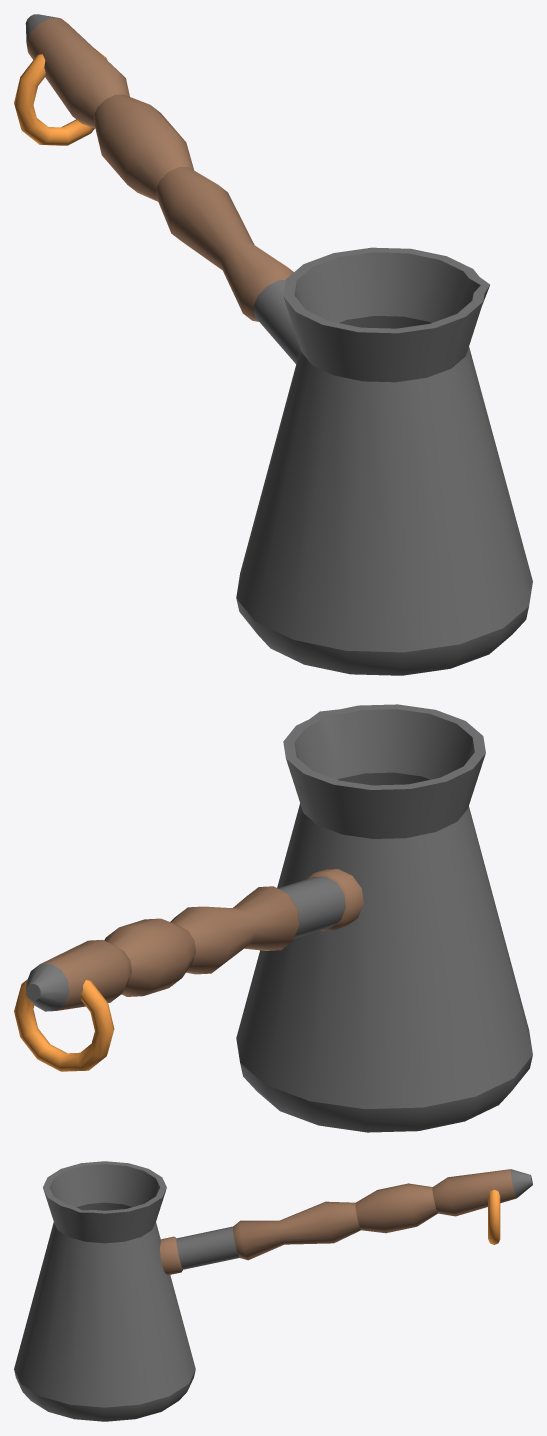
Rendered from m_cezve.glb.
3 renders of one model, top to bottom at view 1: azimuth 30°, elevation 25°; view 2: azimuth 150°, elevation 25°; view 3: azimuth 270°, elevation 25°, orthographic. The views are drawn at different scales.
Parts seen in each view (by area): view 1: Cylinder, Cylinder.001, Torus; view 2: Cylinder, Cylinder.001, Torus; view 3: Cylinder, Cylinder.001, Torus.
Boxes of the visible parts, x1,y1,x2,y2 form: Cylinder: [236, 247, 532, 675]; Cylinder.001: [25, 14, 300, 363]; Torus: [14, 47, 107, 145]; Cylinder: [236, 704, 532, 1132]; Cylinder.001: [25, 869, 363, 1011]; Torus: [14, 979, 114, 1071]; Cylinder: [14, 1161, 195, 1421]; Cylinder.001: [160, 1169, 532, 1275]; Torus: [488, 1189, 500, 1244].
Bounding box in the file's own units: 3.27 × 4.31 × 9.32.
